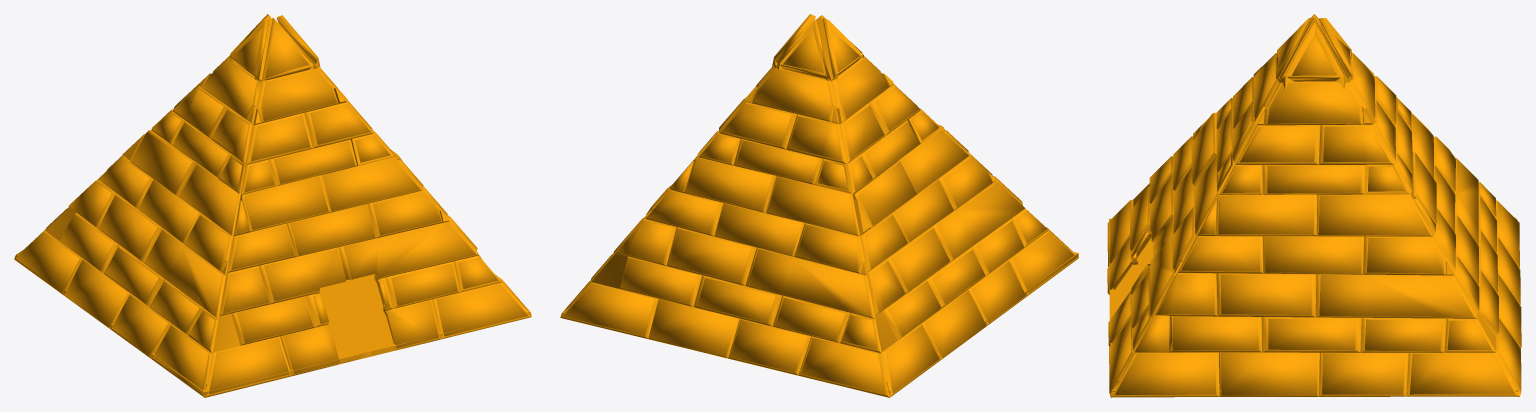
Rendered from pyramide.fbx.
3 renders of one model, left to right at view 1: azimuth 30°, elevation 25°; view 2: azimuth 150°, elevation 25°; view 3: azimuth 270°, elevation 25°, orthographic. The views are drawn at different scales.
Parts seen in each view (by area): view 1: Cone.001_Cone.004; view 2: Cone.001_Cone.004; view 3: Cone.001_Cone.004.
Boxes of the visible parts, x1=… form: Cone.001_Cone.004: x1=14, y1=14, x2=531, y2=397; Cone.001_Cone.004: x1=560, y1=14, x2=1078, y2=397; Cone.001_Cone.004: x1=1107, y1=14, x2=1521, y2=397.
Bounding box in the file's own units: 273 × 214 × 273.
